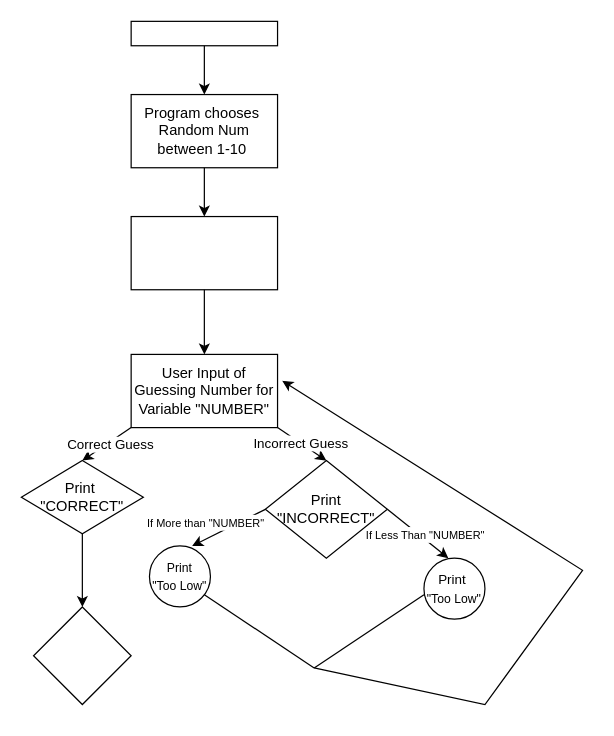
Some shapes in this 614 by 736 pixel diagram are drawn without their labels. Each missing label, with the centre of its shape:
End Program: the point at 81,655
Number Chosen Assigned to Variable "NUMBER": the point at 204,252
Run Code: the point at 204,33
